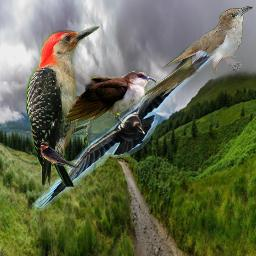Crow: (31, 31, 224, 211)
Cuckoo: (134, 6, 253, 101), (64, 35, 157, 126)
Swallow: (40, 141, 79, 168)
Woodpecker: (26, 26, 111, 187)
